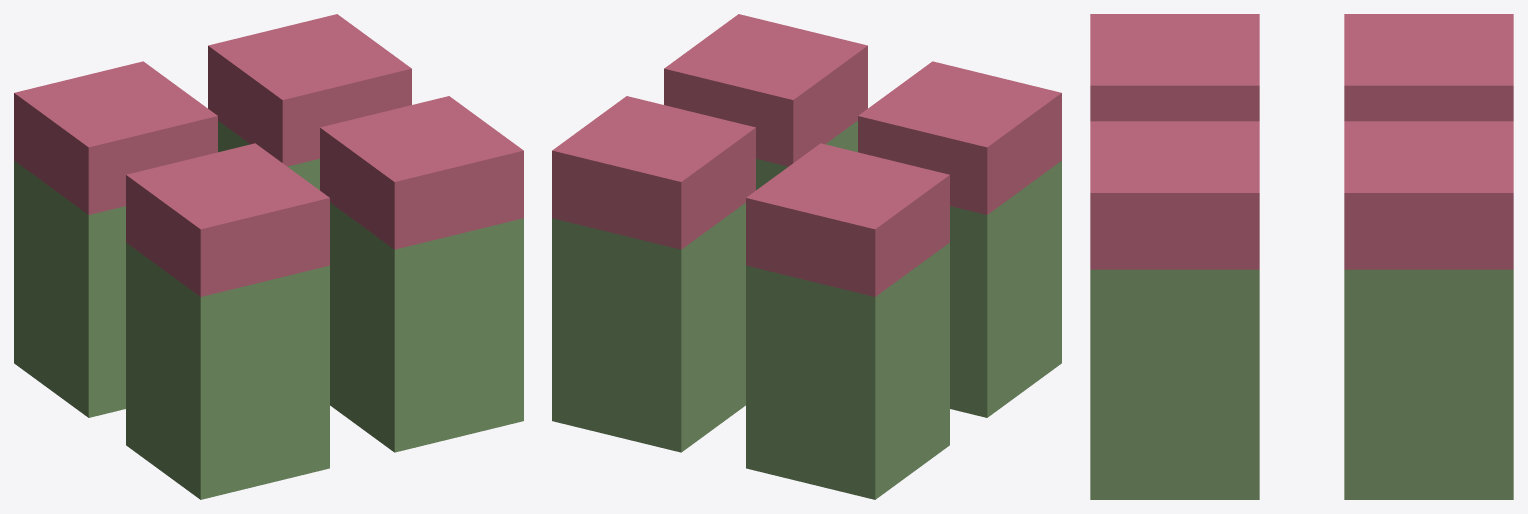
The model's file is culture_radis.glb.
3 renders of one model, left to right at view 1: azimuth 30°, elevation 25°; view 2: azimuth 150°, elevation 25°; view 3: azimuth 270°, elevation 25°, orthographic. The views are drawn at different scales.
Parts seen in each view (by area): view 1: geometry_0; view 2: geometry_0; view 3: geometry_0.
Part boxes in pixels (x1,y1,x2,y2): geometry_0: (14, 14, 523, 499); geometry_0: (552, 14, 1061, 499); geometry_0: (1090, 14, 1513, 499).
Size of the model in its own units: 0.625 by 0.5 by 0.625.
